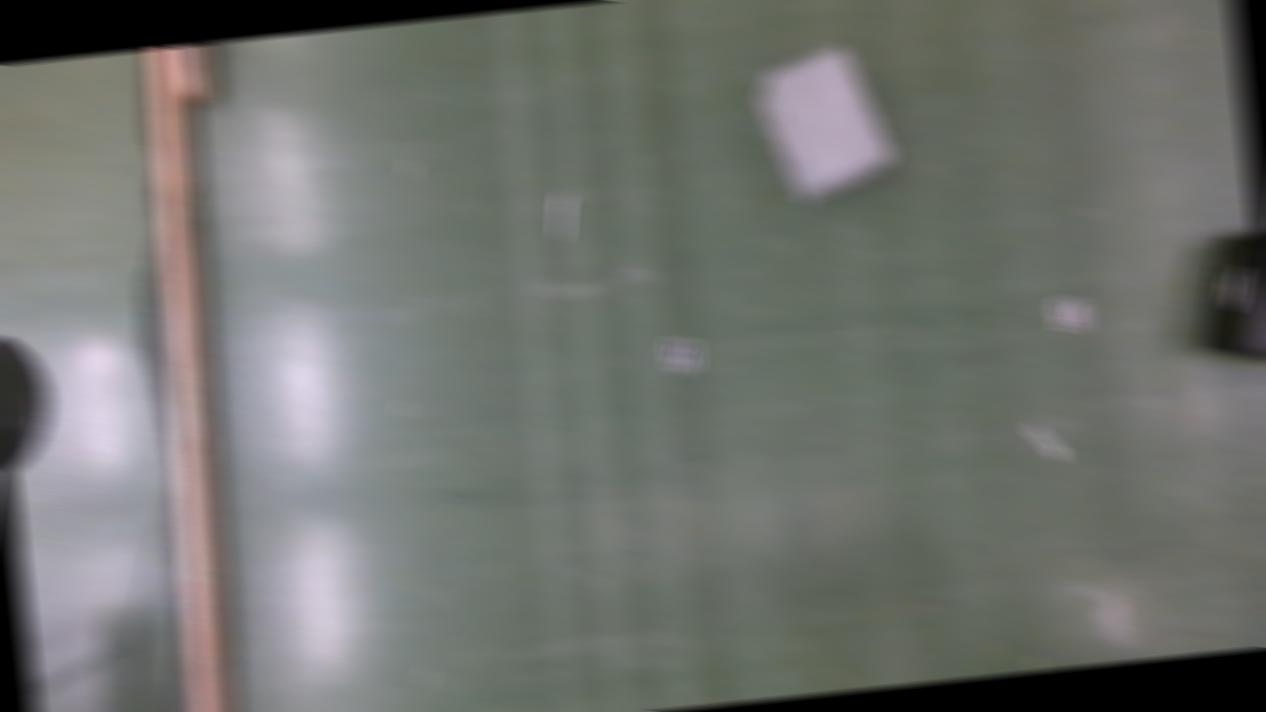probes: (1026, 421, 1064, 465), (548, 194, 573, 244)
rako: (750, 41, 898, 212), (1188, 231, 1266, 368)
